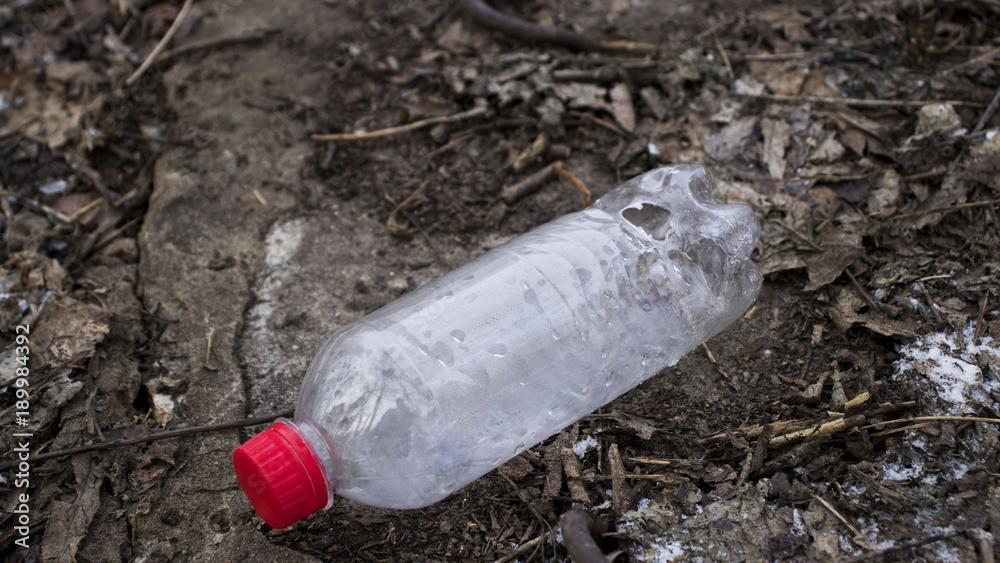bottle: (218, 152, 763, 542)
